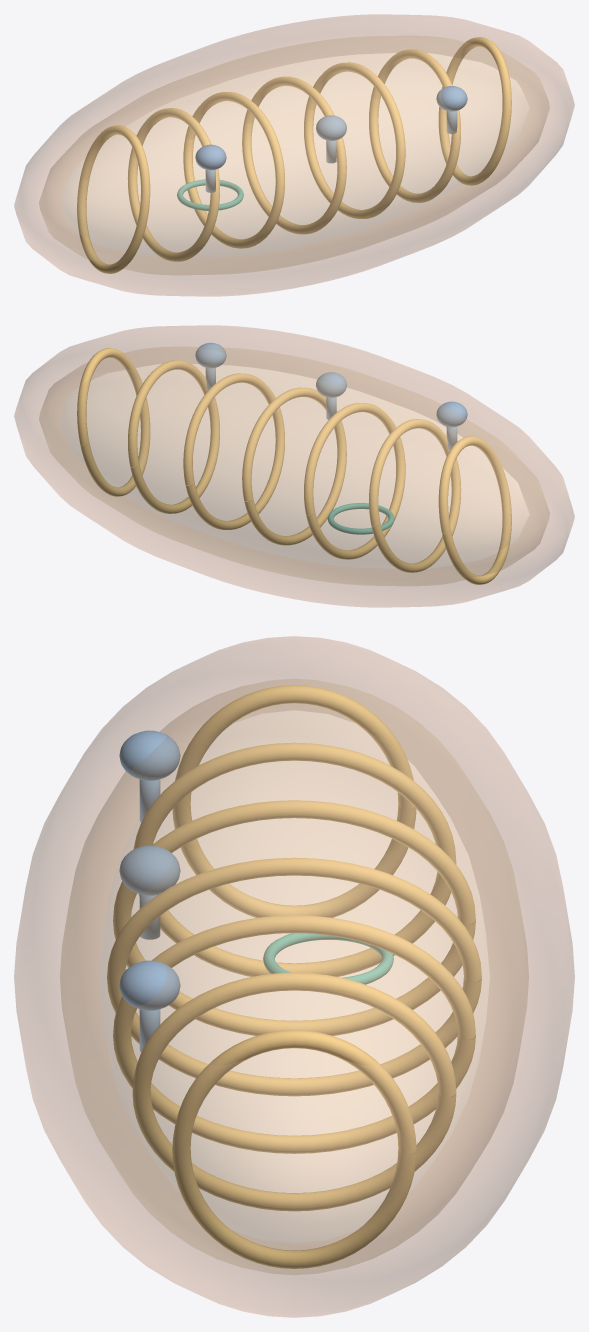
The model's file is mitochondrion.glb.
The picture shows the model from 3 angles, top to bottom: view 1: azimuth 30°, elevation 25°; view 2: azimuth 150°, elevation 25°; view 3: azimuth 270°, elevation 25°; orthographic projection. The views are drawn at different scales.
Parts seen in each view (by area): view 1: Outer membrane, Inner membrane, Cristae folds, Mitochondrial DNA, ATP synthase head 0, ATP synthase head 2, ATP synthase head 1; view 2: Outer membrane, Inner membrane, Cristae folds, Mitochondrial DNA, ATP synthase head 0, ATP synthase head 2, ATP synthase head 1; view 3: Outer membrane, Inner membrane, Cristae folds, ATP synthase head 2, ATP synthase head 0, ATP synthase head 1, Mitochondrial DNA.
Part boxes in pixels (left/top/right/bottom): Outer membrane: left=14, top=14, right=574, bottom=296; Inner membrane: left=39, top=36, right=549, bottom=274; Cristae folds: left=77, top=37, right=511, bottom=273; Mitochondrial DNA: left=177, top=179, right=243, bottom=210; ATP synthase head 0: left=195, top=144, right=226, bottom=170; ATP synthase head 2: left=436, top=86, right=467, bottom=111; ATP synthase head 1: left=316, top=115, right=346, bottom=140; Outer membrane: left=14, top=325, right=574, bottom=607; Inner membrane: left=39, top=347, right=549, bottom=585; Cristae folds: left=77, top=348, right=511, bottom=584; Mitochondrial DNA: left=327, top=503, right=394, bottom=534; ATP synthase head 0: left=436, top=401, right=467, bottom=427; ATP synthase head 2: left=195, top=342, right=226, bottom=368; ATP synthase head 1: left=316, top=372, right=346, bottom=397; Outer membrane: left=14, top=636, right=574, bottom=1317; Inner membrane: left=60, top=679, right=528, bottom=1274; Cristae folds: left=107, top=685, right=481, bottom=1268; ATP synthase head 2: left=119, top=960, right=180, bottom=1010; ATP synthase head 0: left=119, top=730, right=180, bottom=780; ATP synthase head 1: left=119, top=845, right=180, bottom=895; Mitochondrial DNA: left=263, top=933, right=393, bottom=984.
Size of the model in its own units: 7.2 by 2.9 by 3.3.
